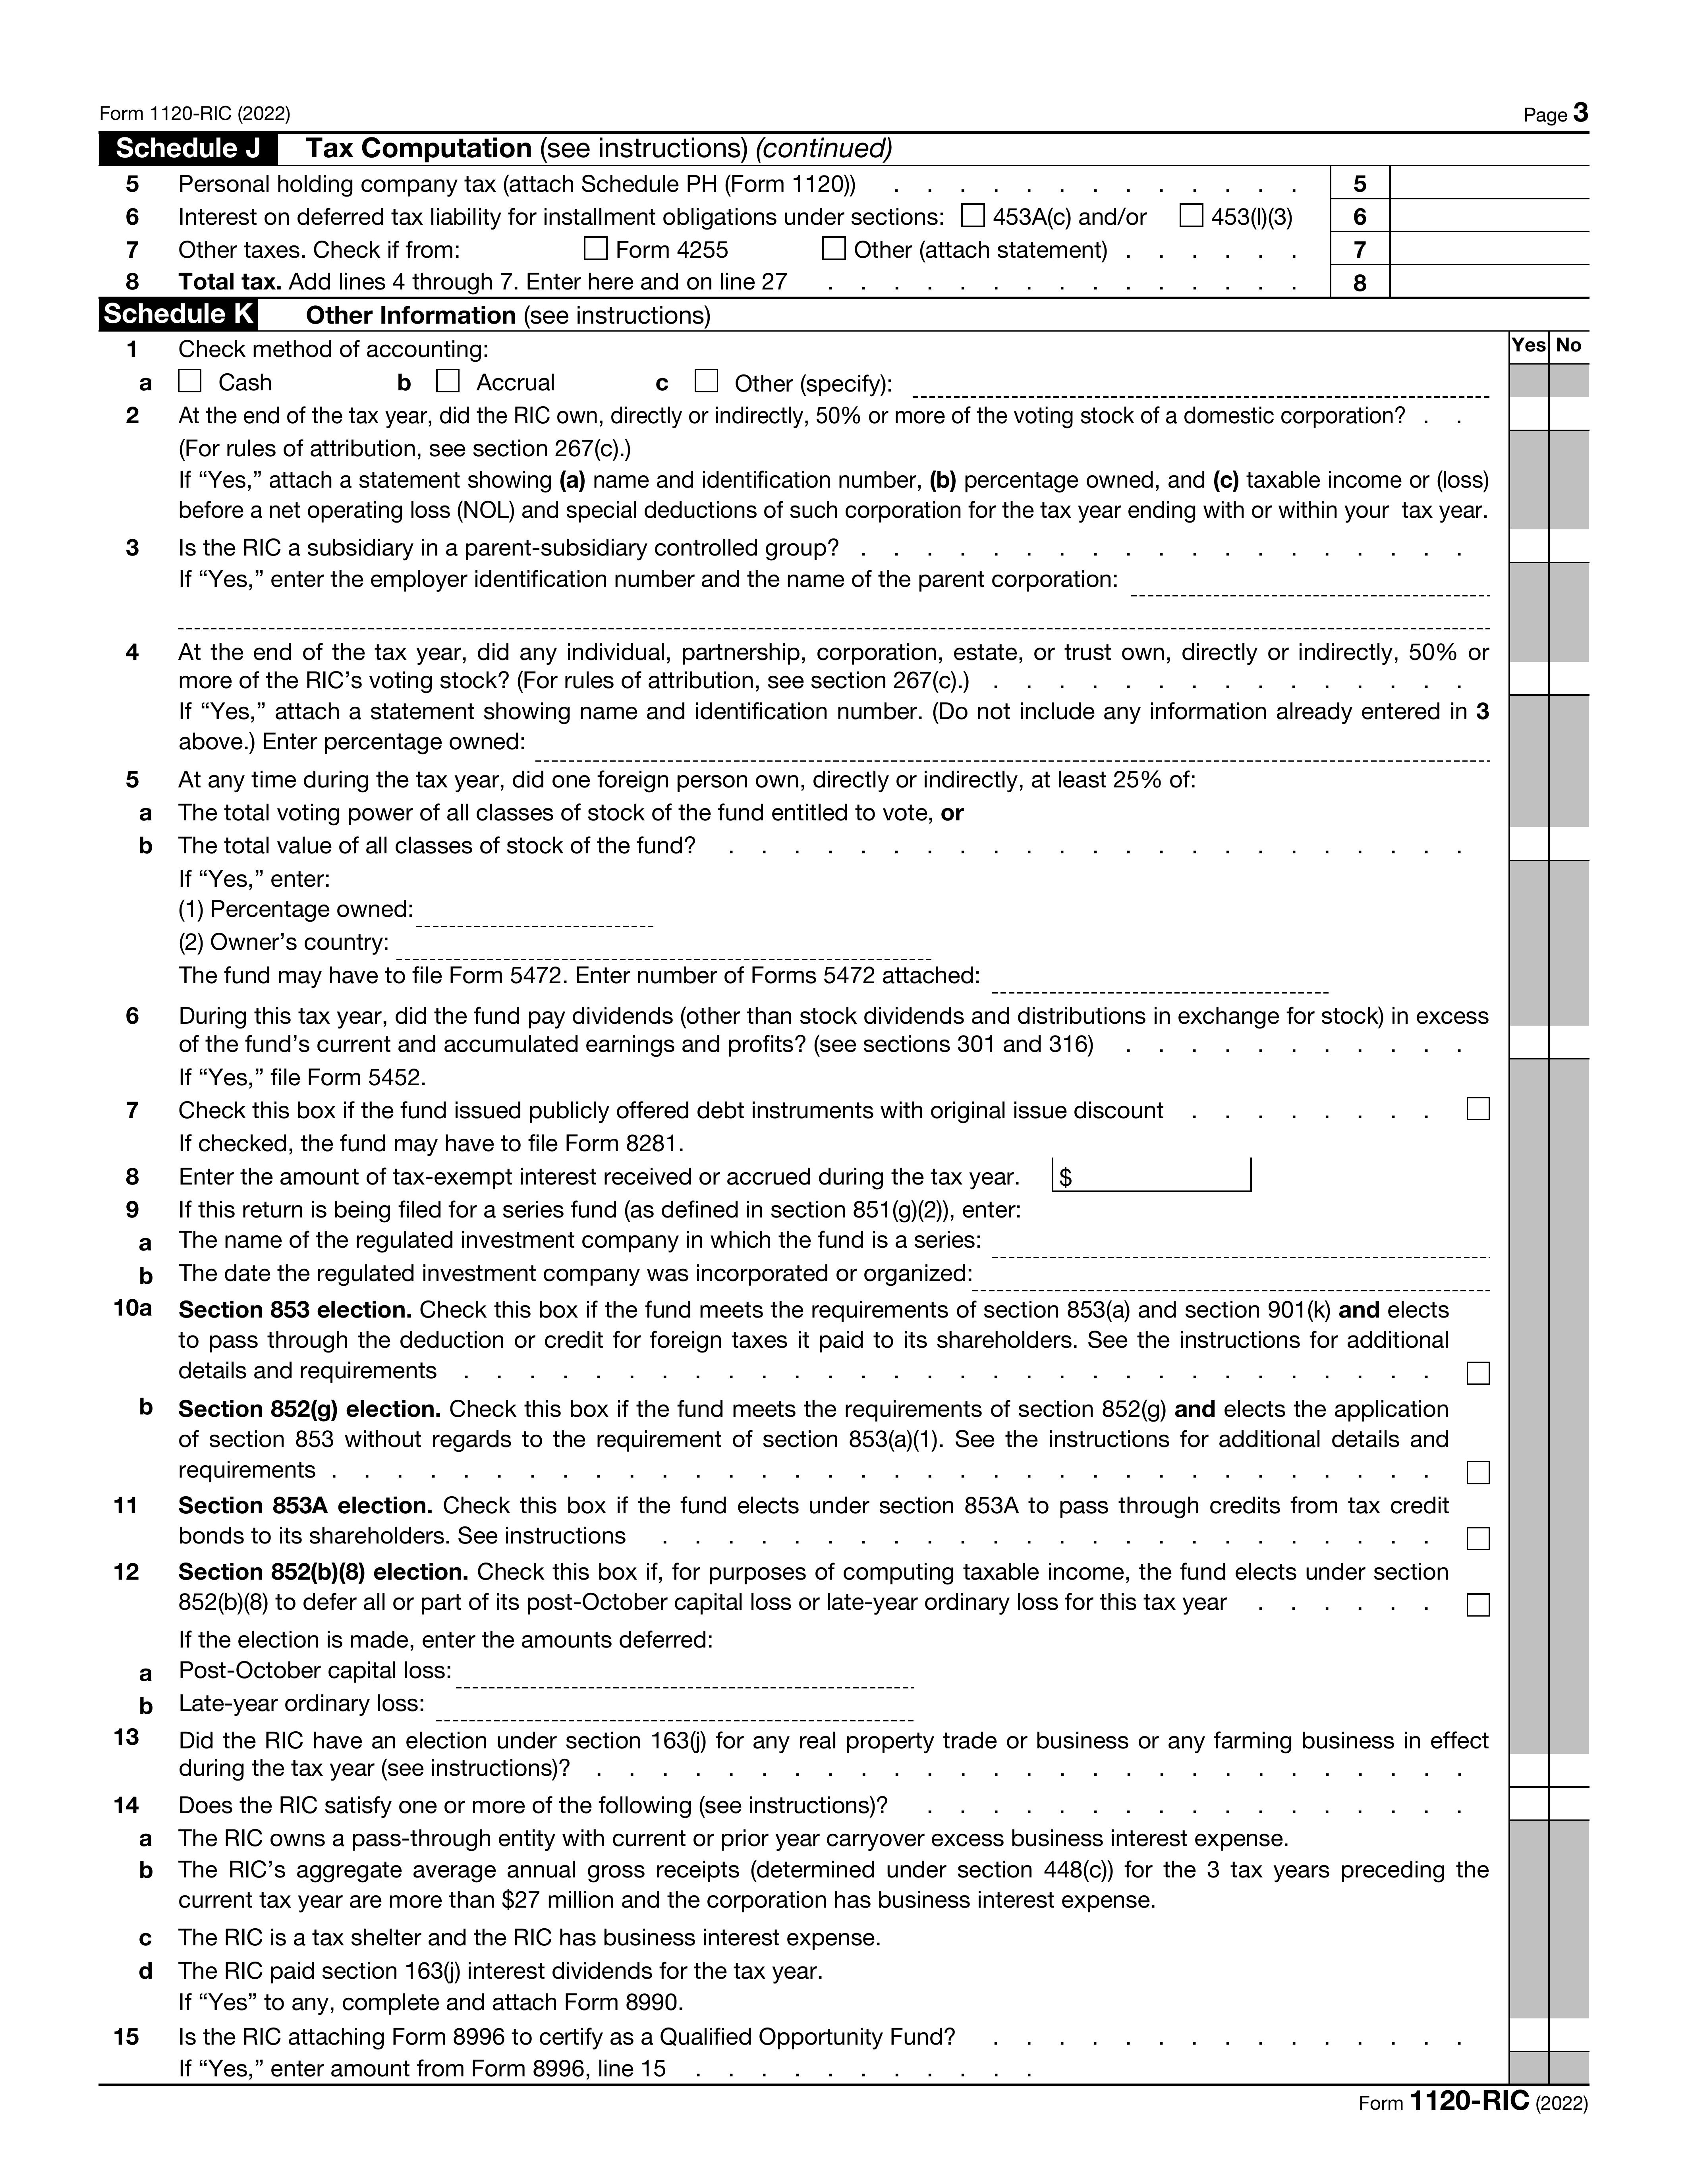table: (85, 333, 1603, 2087), (110, 163, 1615, 300)
